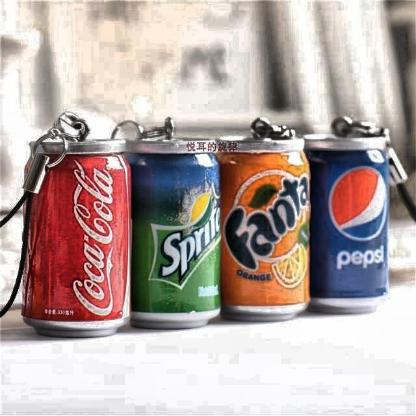Can: (22, 135, 134, 335), (121, 131, 223, 329), (215, 127, 313, 318), (298, 131, 390, 311)
